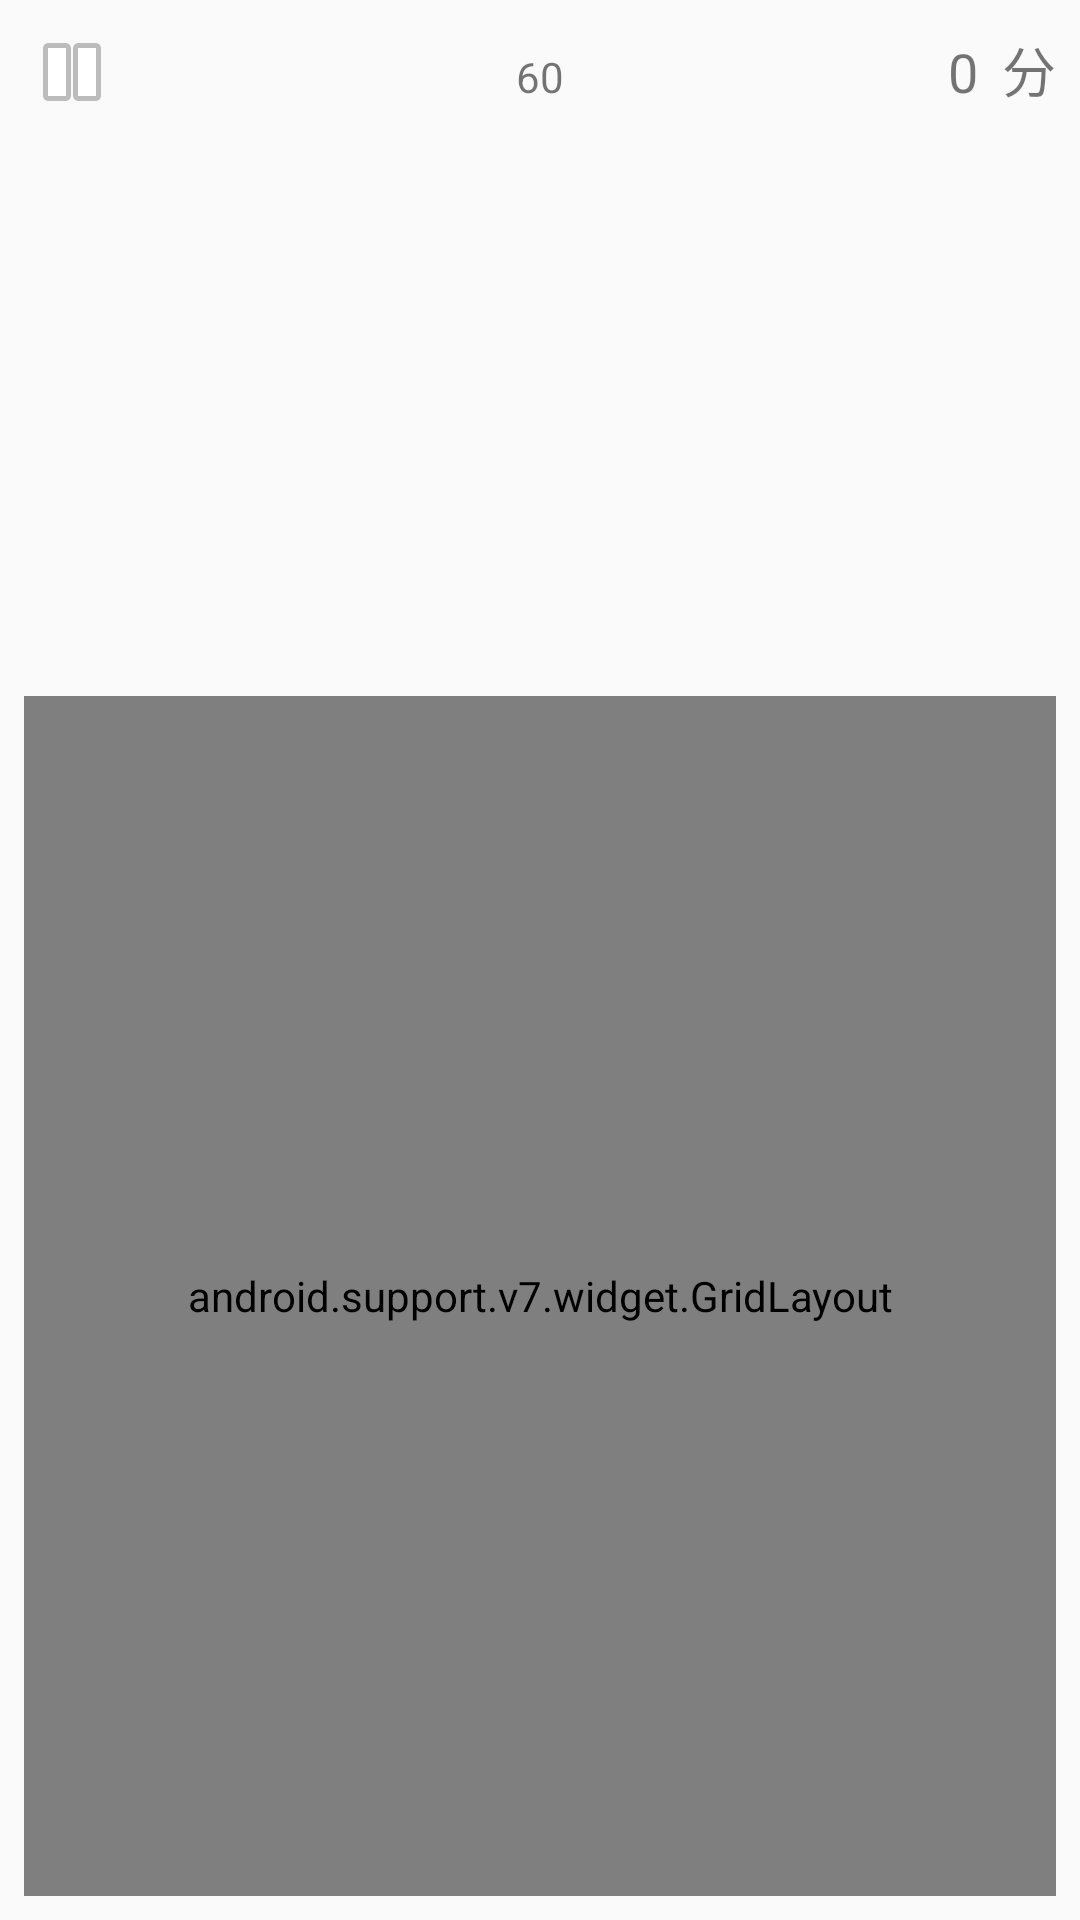

Icons on this 1080px x 1920px Android screen, each with the point to tap as (x,y):
pause: (72,72)
